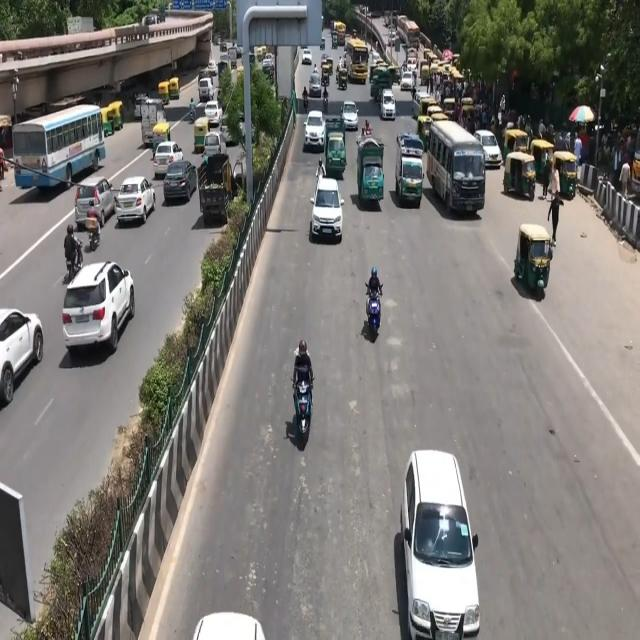Auto: (504, 227, 566, 307), (500, 144, 540, 212)
Bus: (14, 96, 107, 180), (428, 130, 488, 214)
Car: (399, 446, 491, 640), (62, 260, 143, 366), (304, 178, 348, 246), (118, 166, 158, 234)
Scooty: (288, 322, 316, 465), (364, 269, 387, 344)
Tempo: (394, 132, 425, 220), (356, 144, 388, 206), (322, 116, 346, 179)
